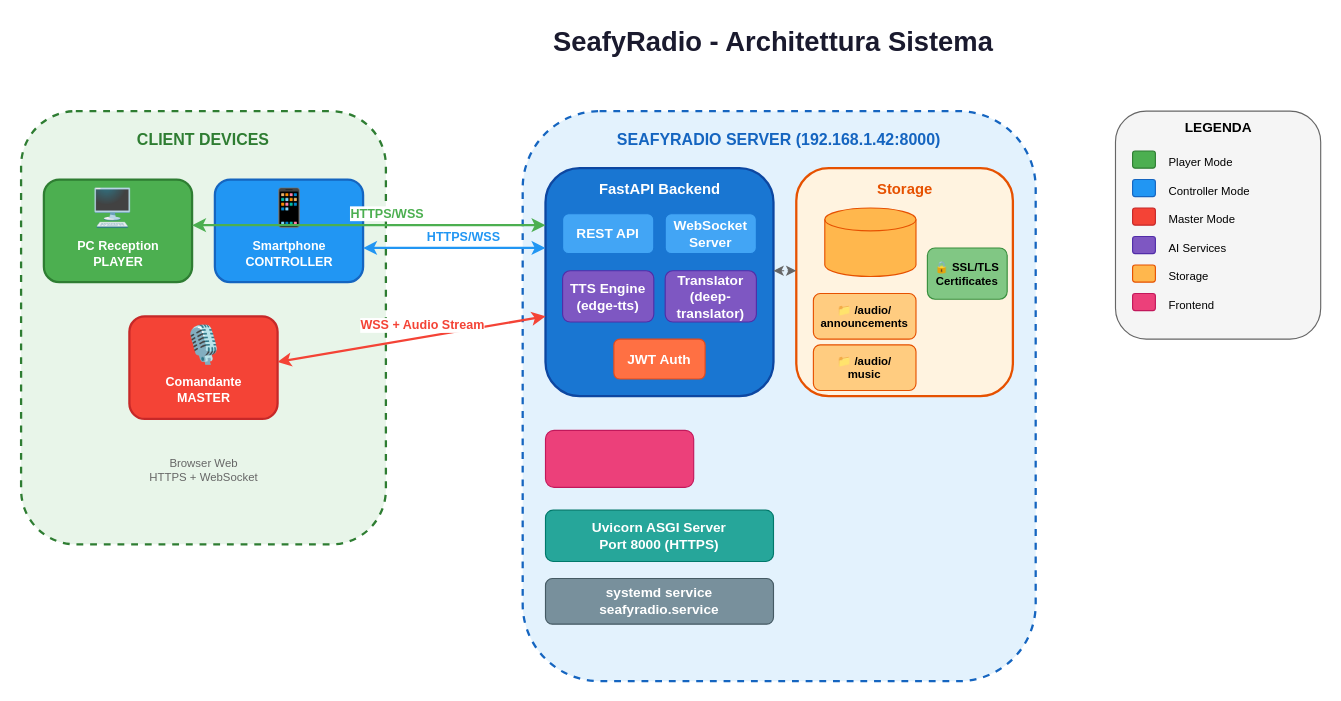
Some shapes in this 1341 by 701 pixel diagram are drawn without their labels. Each missing label, with the box of its shape:
Frontend SPA (HTML/JS/CSS): (544, 429, 694, 487)
SQLite seafyradio.db: (824, 207, 916, 276)
